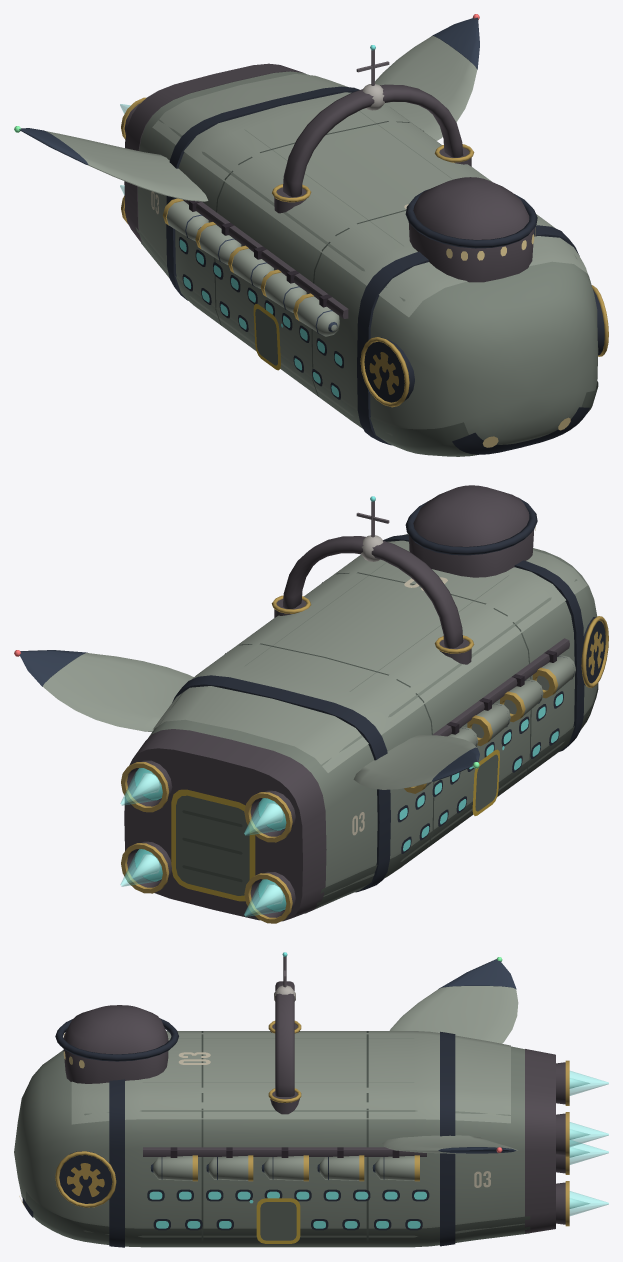
Rendered from elfinia_transport.glb.
3 views of the same model, one above another, from view 1: azimuth 30°, elevation 25°; view 2: azimuth 150°, elevation 25°; view 3: azimuth 270°, elevation 25° (orthographic). The views are drawn at different scales.
Visible parts, largest first — view 1: elfinia_transport_body, elfinia_transport_fine, elfinia_transport_glow; view 2: elfinia_transport_body, elfinia_transport_fine, elfinia_transport_plume, elfinia_transport_glow; view 3: elfinia_transport_body, elfinia_transport_fine, elfinia_transport_glow, elfinia_transport_plume.
Boxes of the visible parts, left/top/right/bottom form: elfinia_transport_body: left=19, top=17, right=608, bottom=445; elfinia_transport_fine: left=135, top=74, right=598, bottom=456; elfinia_transport_glow: left=14, top=14, right=570, bottom=447; elfinia_transport_body: left=19, top=485, right=608, bottom=923; elfinia_transport_fine: left=153, top=534, right=603, bottom=913; elfinia_transport_plume: left=120, top=768, right=286, bottom=916; elfinia_transport_glow: left=14, top=496, right=562, bottom=911; elfinia_transport_body: left=14, top=956, right=569, bottom=1247; elfinia_transport_fine: left=22, top=1031, right=530, bottom=1247; elfinia_transport_glow: left=19, top=952, right=589, bottom=1228; elfinia_transport_plume: left=569, top=1071, right=608, bottom=1215.
Size of the model in its own units: 35.32 by 22.62 by 46.11.
